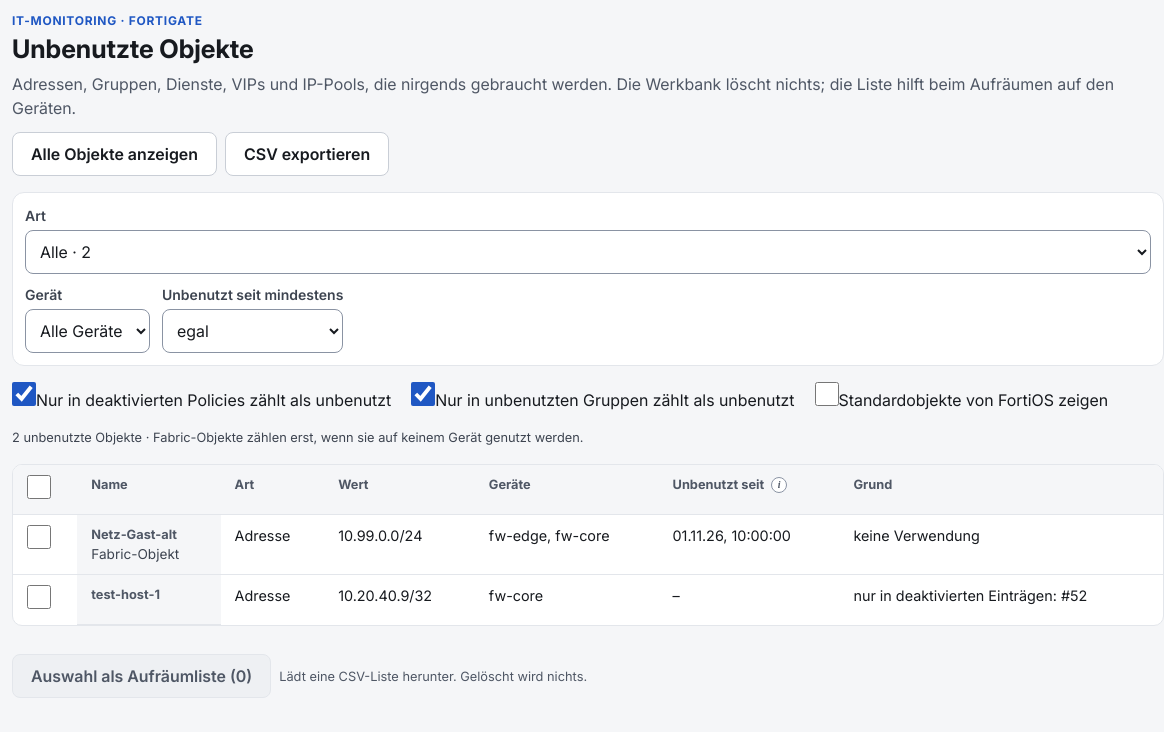
Scenario: FortiGate › listet unbenutzte Objekte, filtert mit Schaltern und lädt die Aufräumliste
The image size is (1164, 732).
Expected: the row "Netz-Gast-alt" shows "Fabric-Objekt", [91,546,179,562]
Click the checkbox labelled "Nur in deaktivierten Policies zählt als unbenutzt" at (24, 394), box [12,382,36,406]
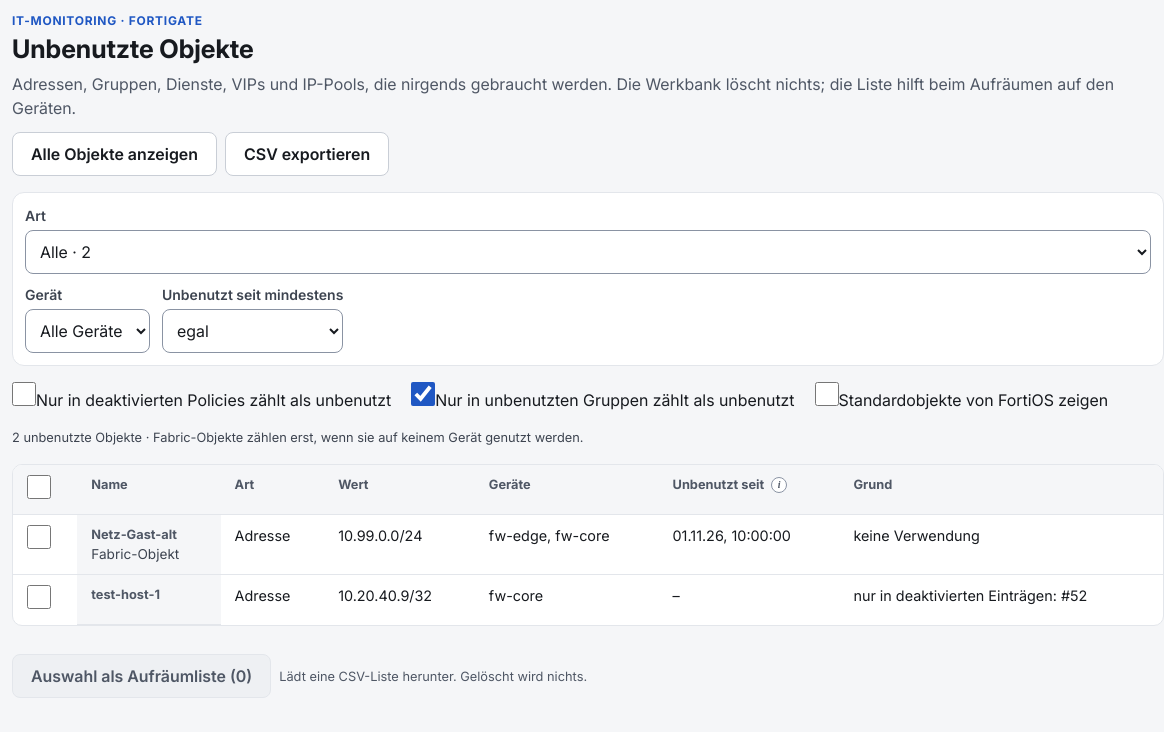
Expected: the button "Auswahl als Aufräumliste (0)" is disabled, [12,654,271,698]
Click the checkbox named "Netz-Gast-alt für die Aufräumliste wählen" at (39, 537), box [27,525,51,549]
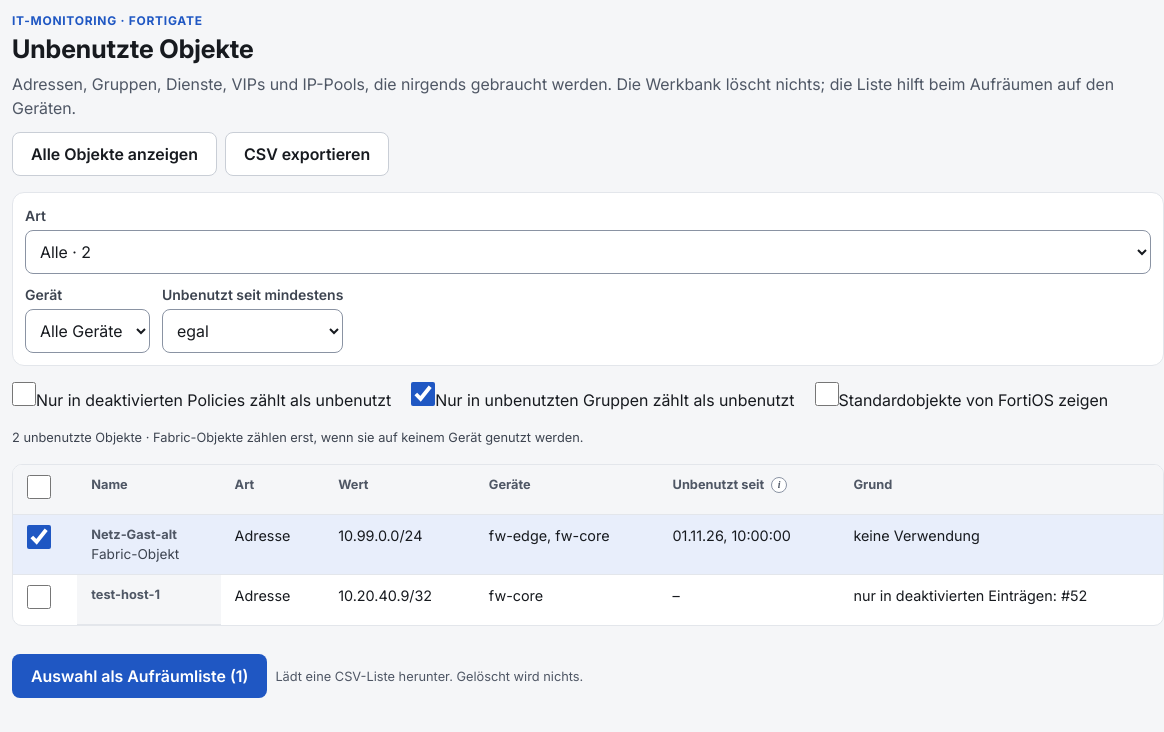
Click the button "Auswahl als Aufräumliste (1)" at (140, 676), box [12,654,267,698]
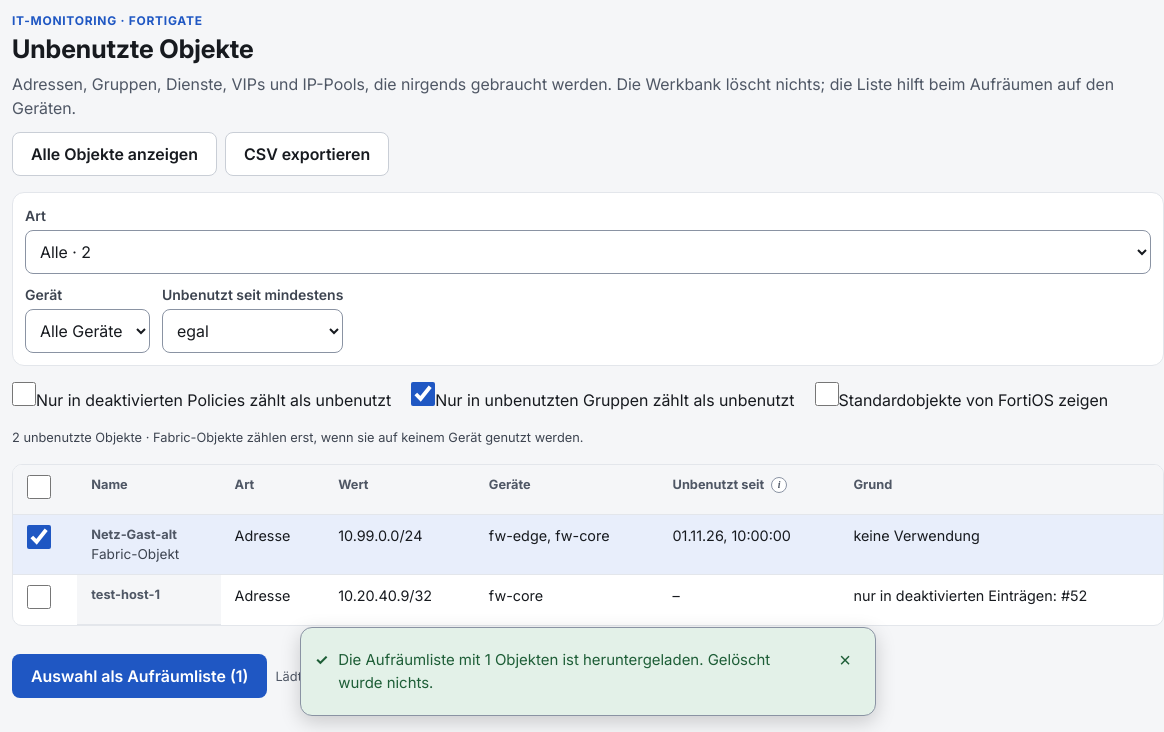
Now the text "Aufräumliste mit 1 Objekten ist heruntergeladen" is shown, box [338,650,770,692]
